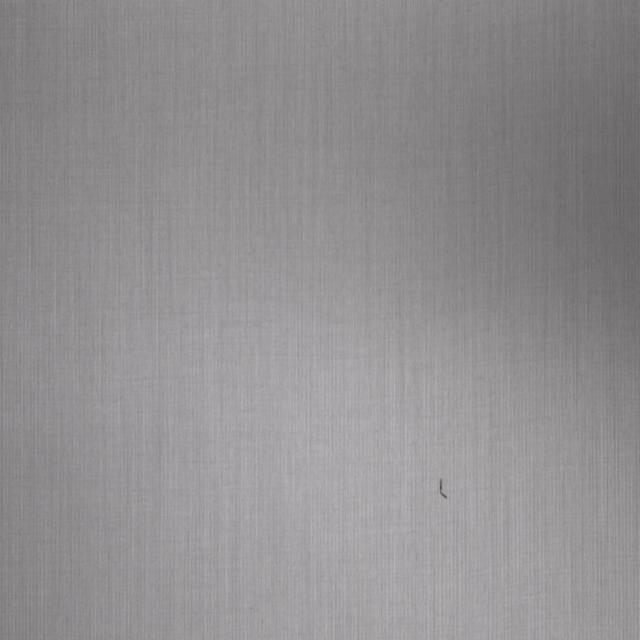dirty: (441, 481, 447, 497)
